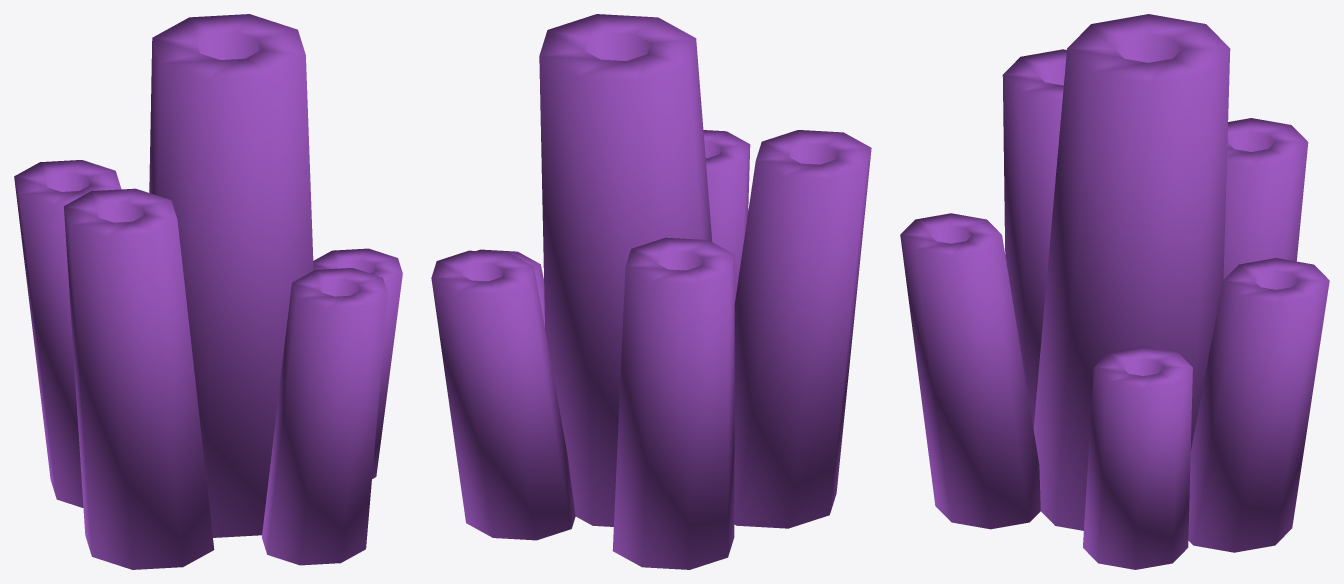
The model's file is Medium5.fbx.
3 views of the same model, side by side, from view 1: azimuth 30°, elevation 25°; view 2: azimuth 150°, elevation 25°; view 3: azimuth 270°, elevation 25° (orthographic). The views are drawn at different scales.
Visible parts, largest first — view 1: Medium5; view 2: Medium5; view 3: Medium5.
Part boxes in pixels (box(x1,y1,x2,y2)): Medium5: box(14, 14, 402, 569); Medium5: box(431, 14, 871, 569); Medium5: box(900, 14, 1329, 569).
Bounding box in the file's own units: 3.3 × 3.8 × 3.26.
